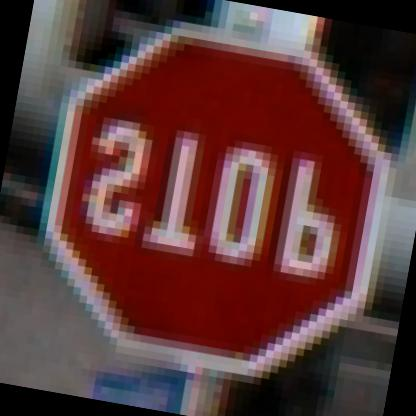stop: (5, 0, 415, 397)
